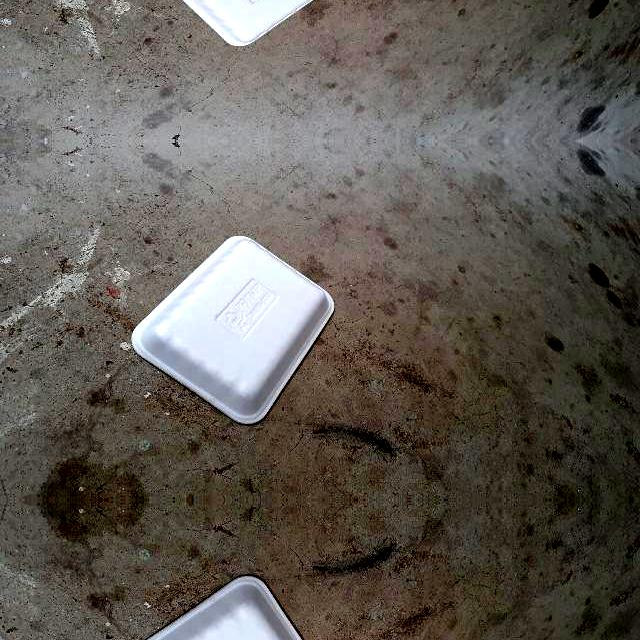Styrofoam: (130, 234, 336, 423), (131, 235, 334, 424), (130, 574, 335, 640), (144, 574, 303, 640), (130, 0, 335, 45)
